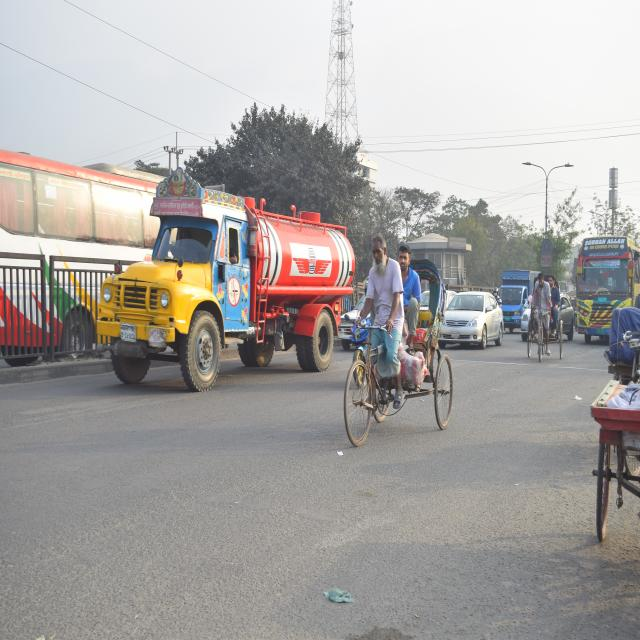bus: (572, 226, 640, 343)
car: (442, 285, 504, 363)
pickup-van: (498, 265, 531, 335)
truck: (92, 169, 356, 399)
